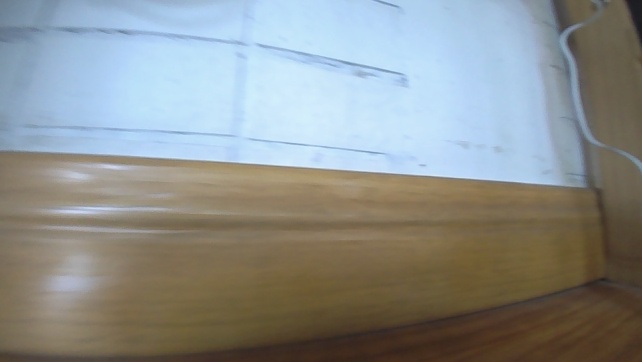wire: (555, 0, 641, 175)
